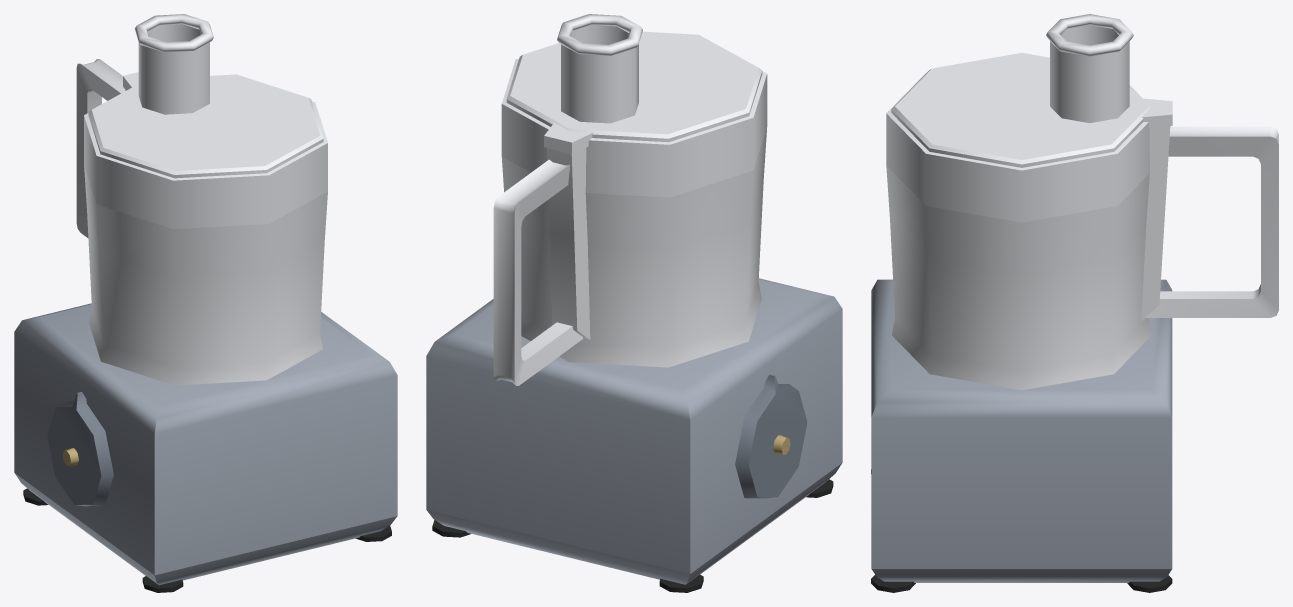
The model's file is Food Processor.glb.
The picture shows the model from 3 angles, left to right: view 1: azimuth 30°, elevation 25°; view 2: azimuth 150°, elevation 25°; view 3: azimuth 270°, elevation 25°; orthographic projection. The views are drawn at different scales.
Visible parts, largest first — view 1: appliance_food_processor_Cube.286, appliance_food_processor_container_Cube.288, appliance_food_processor_lid_Cube.287, appliance_food_processor_knob_Cube.290; view 2: appliance_food_processor_Cube.286, appliance_food_processor_container_Cube.288, appliance_food_processor_lid_Cube.287, appliance_food_processor_knob_Cube.290; view 3: appliance_food_processor_container_Cube.288, appliance_food_processor_Cube.286, appliance_food_processor_lid_Cube.287.
Part boxes in pixels (box(x1,y1,x2,y2)): appliance_food_processor_Cube.286: box(14, 303, 397, 592); appliance_food_processor_container_Cube.288: box(76, 59, 327, 385); appliance_food_processor_lid_Cube.287: box(88, 14, 323, 178); appliance_food_processor_knob_Cube.290: box(47, 392, 113, 506); appliance_food_processor_Cube.286: box(426, 278, 842, 592); appliance_food_processor_container_Cube.288: box(493, 58, 767, 385); appliance_food_processor_lid_Cube.287: box(506, 14, 762, 142); appliance_food_processor_knob_Cube.290: box(735, 374, 807, 498); appliance_food_processor_container_Cube.288: box(886, 72, 1278, 390); appliance_food_processor_Cube.286: box(871, 279, 1172, 592); appliance_food_processor_lid_Cube.287: box(891, 14, 1150, 167).
Bounding box in the file's own units: 3.77 × 6.32 × 4.71.
2 materials, 2 textured.
